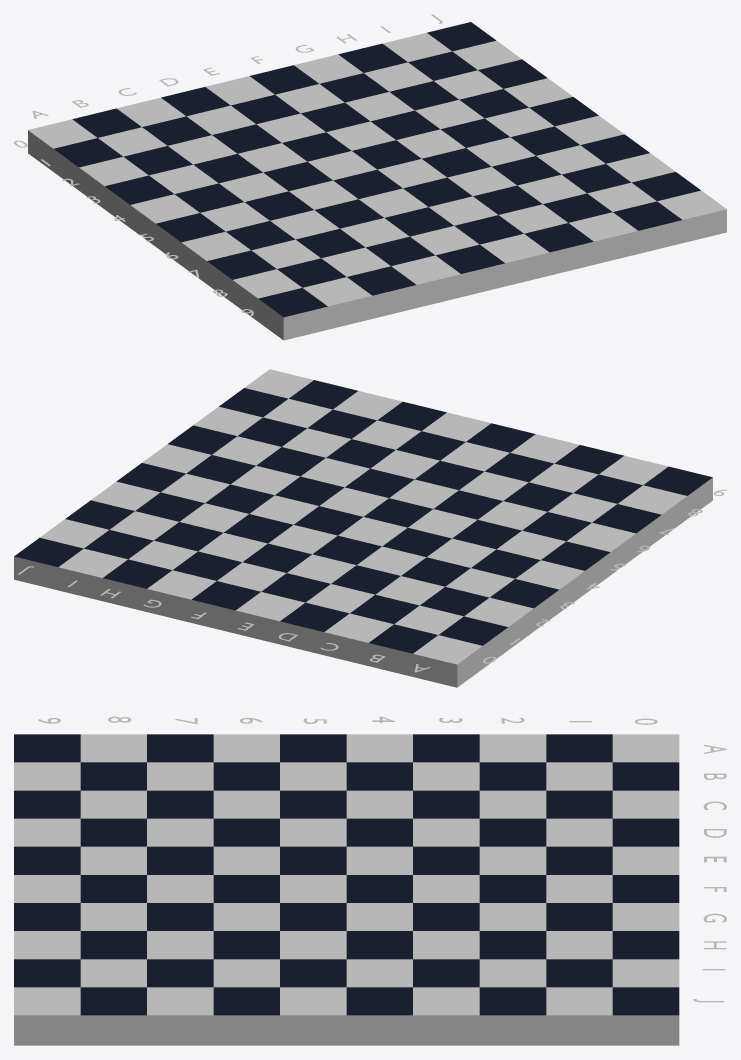
Rendered from new_board.obj.
3 views of the same model, one above another, from view 1: azimuth 30°, elevation 25°; view 2: azimuth 150°, elevation 25°; view 3: azimuth 270°, elevation 25° (orthographic). The views are drawn at different scales.
Parts seen in each view (by area): view 1: Cube_Cube.001; view 2: Cube_Cube.001; view 3: Cube_Cube.001.
Part boxes in pixels (x1=…): Cube_Cube.001: x1=28, y1=22, x2=726, y2=340; Cube_Cube.001: x1=14, y1=369, x2=712, y2=687; Cube_Cube.001: x1=14, y1=734, x2=679, y2=1045.
Size of the model in its own units: 2.13 by 0.1 by 2.14.
